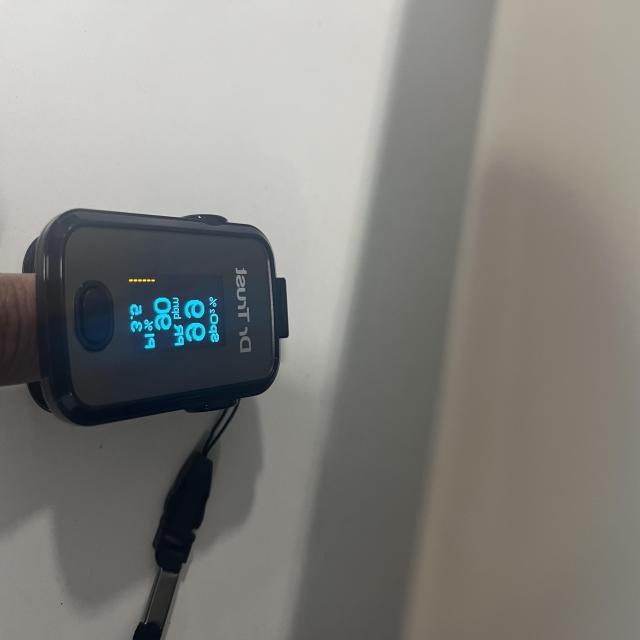spo2: (18, 209, 290, 428)
